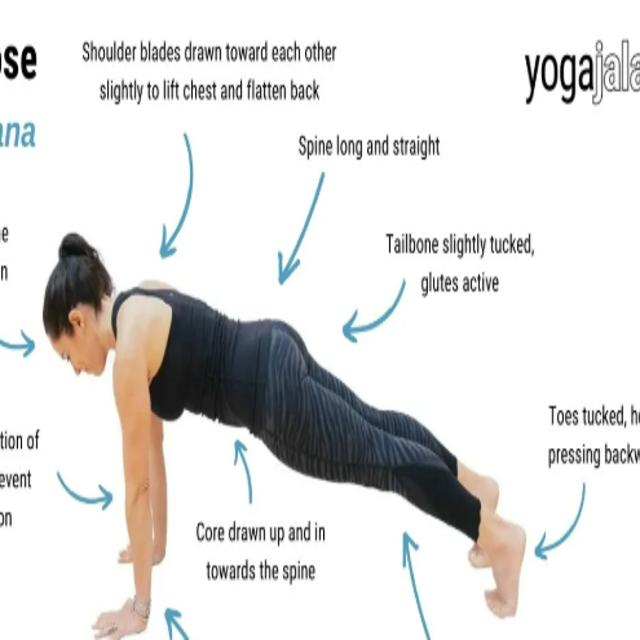Plank_Pose: (37, 227, 533, 640)
